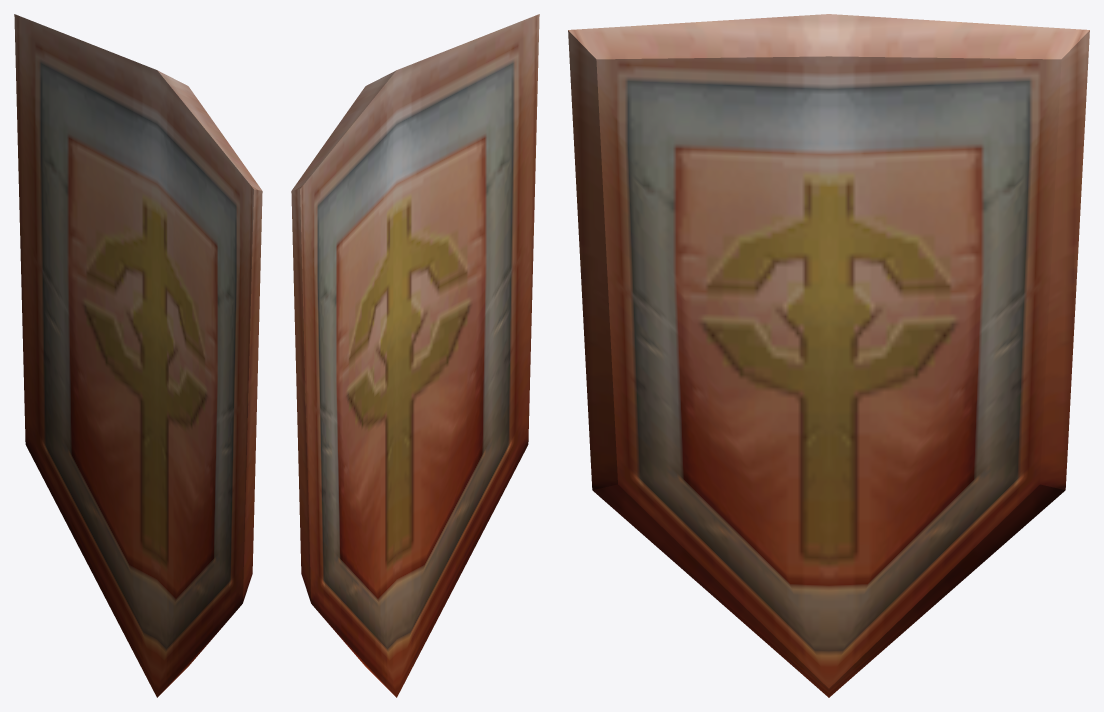
Rendered from crimsonwallshield01.obj.
The picture shows the model from 3 angles, left to right: view 1: azimuth 30°, elevation 25°; view 2: azimuth 150°, elevation 25°; view 3: azimuth 270°, elevation 25°; orthographic projection. The views are drawn at different scales.
Bounding box in the file's own units: 0.0954 × 1.05 × 0.7288.
Materials: 1 (1 with a texture image).
